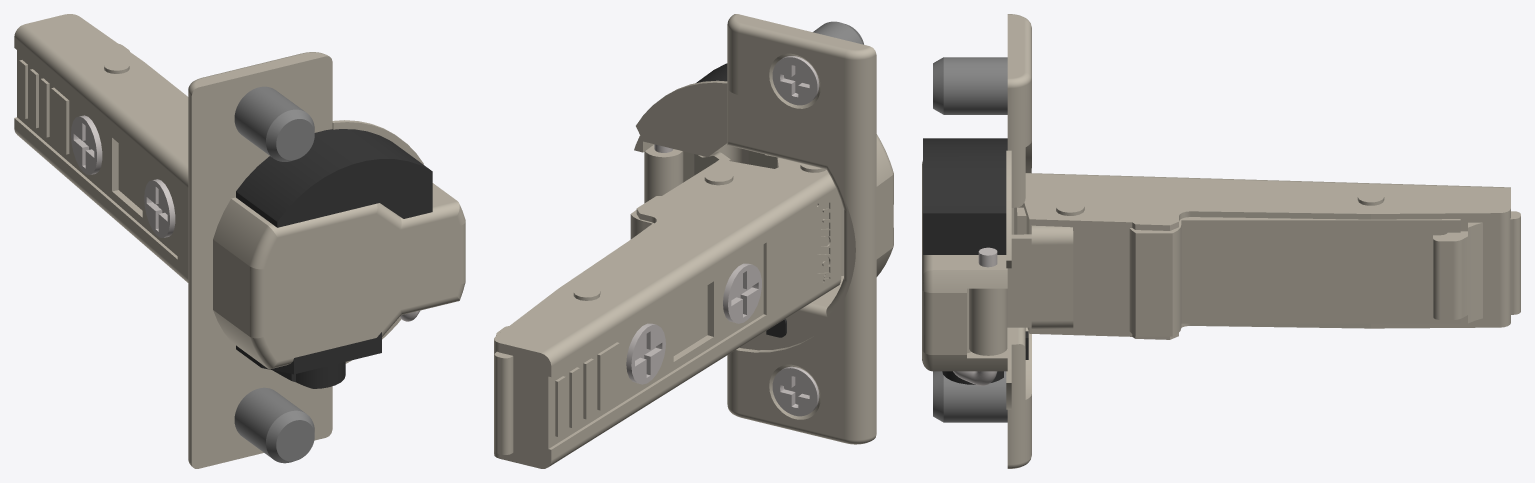
3 views of the same model, side by side, from view 1: azimuth 30°, elevation 25°; view 2: azimuth 150°, elevation 25°; view 3: azimuth 270°, elevation 25° (orthographic). The views are drawn at different scales.
Parts seen in each view (by area): view 1: bau0045622955-1, bau0045622803-1, bau0059100308-1, bau0059100308-2; view 2: bau0045622803-1, bau0045622955-1, bau0059100308-1, bau0016549209-1, bau0019426112-1, bau0059100308-2, bau0016549175-2; view 3: bau0019426112-1, bau0045622803-1, bau0045622955-1, bau0016549209-1, bau0059100308-1, bau0059100308-2.
Part boxes in pixels (left/top/right/bottom): bau0045622955-1: left=188, top=52, right=465, bottom=468; bau0045622803-1: left=14, top=14, right=188, bottom=282; bau0059100308-1: left=234, top=86, right=314, bottom=161; bau0059100308-2: left=234, top=387, right=314, bottom=463; bau0045622803-1: left=494, top=159, right=841, bottom=468; bau0045622955-1: left=634, top=14, right=893, bottom=444; bau0059100308-1: left=772, top=21, right=863, bottom=105; bau0016549209-1: left=644, top=145, right=730, bottom=203; bau0019426112-1: left=494, top=210, right=654, bottom=454; bau0059100308-2: left=772, top=366, right=819, bottom=416; bau0016549175-2: left=714, top=143, right=843, bottom=275; bau0019426112-1: left=1129, top=211, right=1520, bottom=336; bau0045622803-1: left=1014, top=173, right=1510, bottom=339; bau0045622955-1: left=922, top=14, right=1031, bottom=468; bau0016549209-1: left=969, top=207, right=1073, bottom=355; bau0059100308-1: left=933, top=57, right=1007, bottom=114; bau0059100308-2: left=933, top=371, right=1007, bottom=422.
Size of the model in its own units: 36.9 by 57 by 79.35.
